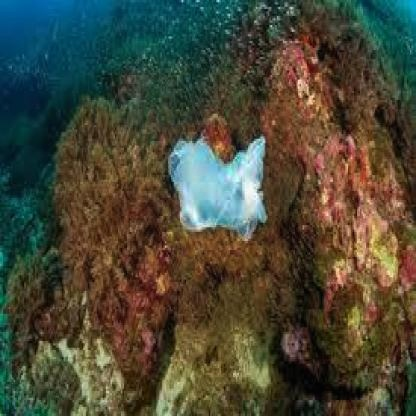pbag: (168, 134, 268, 241)
